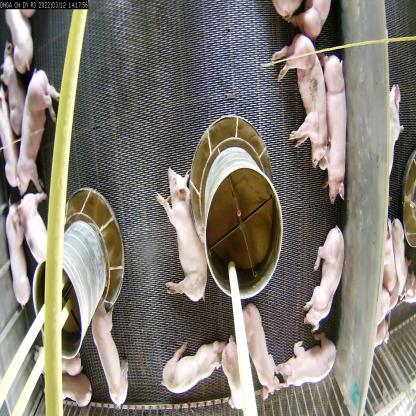Pig: (263, 36, 329, 171), (160, 166, 210, 308), (81, 298, 132, 413), (310, 49, 347, 205), (12, 70, 58, 185), (304, 220, 340, 336), (237, 304, 281, 394), (165, 335, 223, 398), (6, 203, 38, 314), (280, 338, 342, 394), (220, 339, 254, 415), (0, 35, 25, 133), (22, 184, 51, 257), (0, 86, 14, 202)
